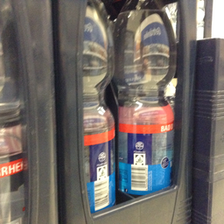water: (113, 1, 177, 200), (80, 1, 116, 211)
